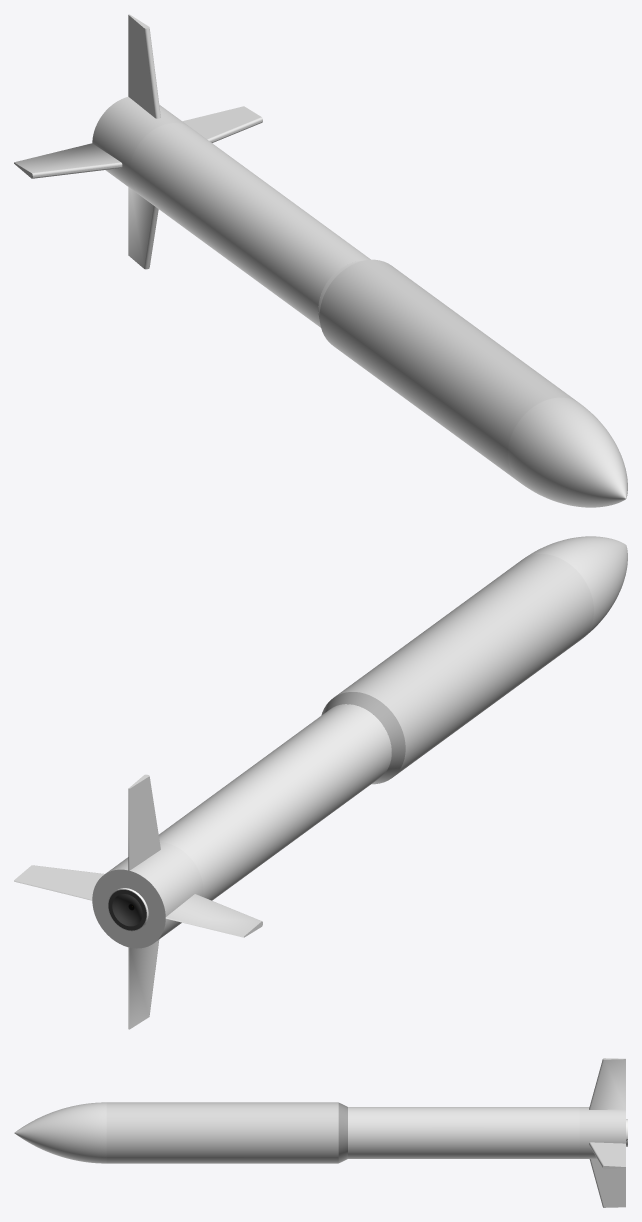
The model's file is Dove-v2.glb.
The picture shows the model from 3 angles, top to bottom: view 1: azimuth 30°, elevation 25°; view 2: azimuth 150°, elevation 25°; view 3: azimuth 270°, elevation 25°; orthographic projection. The views are drawn at different scales.
Parts seen in each view (by area): view 1: Jacks Version Dove V2everything; view 2: Jacks Version Dove V2everything; view 3: Jacks Version Dove V2everything.
Part boxes in pixels (box(x1,y1,x2,y2)): Jacks Version Dove V2everything: box(14, 14, 627, 507); Jacks Version Dove V2everything: box(14, 536, 627, 1029); Jacks Version Dove V2everything: box(14, 1058, 627, 1207).
Bounding box in the file's own units: 3.53 × 3.53 × 13.24.
17 materials, 10 textured.
